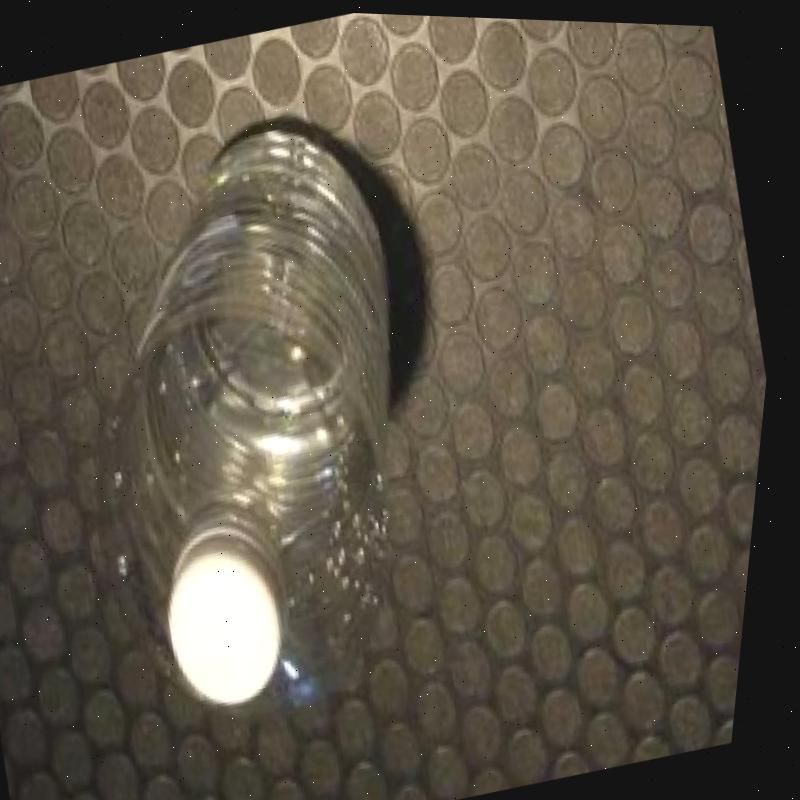botella: (23, 94, 507, 739)
